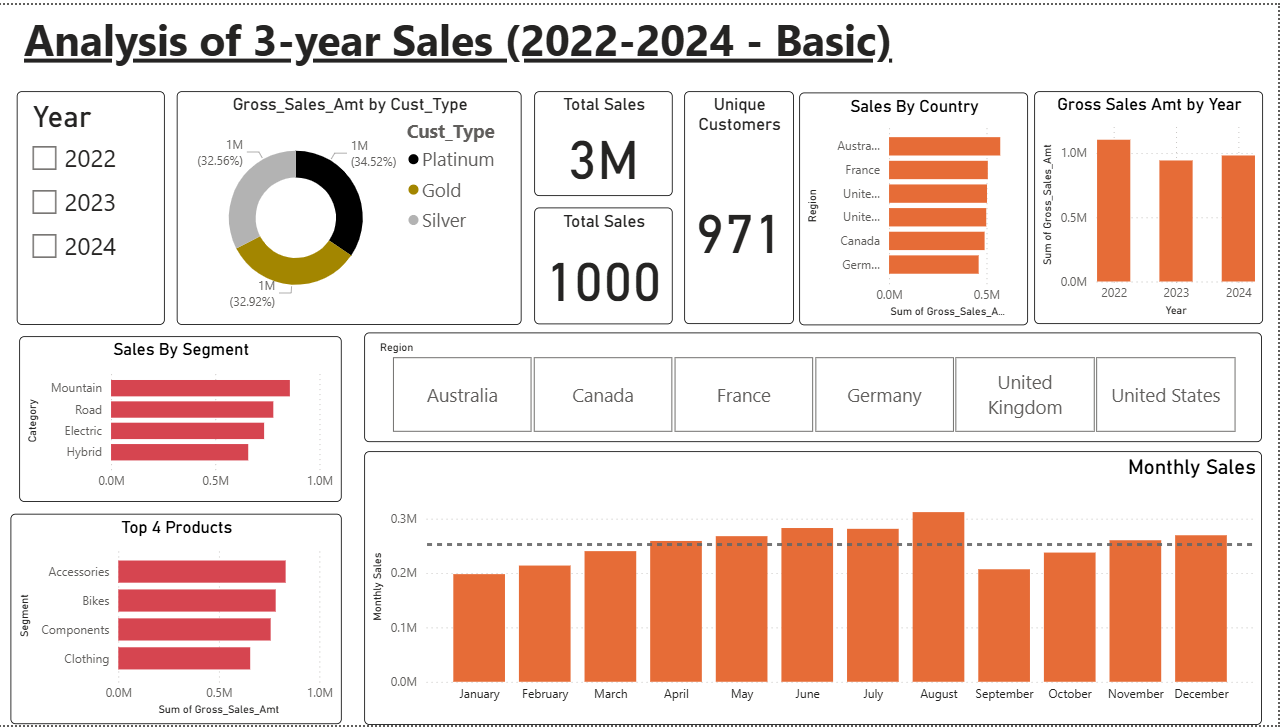

The dashboard page shown, as its layout file describes it:
{"tool":"powerbi","page":{"name":"Page 1","canvas":[1280,720],"ordinal":0},"visuals":[{"type":"textbox","box":[9.6,0,900.2,116.6],"z":0},{"type":"slicer","fields":{"Values":["sales_data_2022_2024.SaleDate.Variation.Date Hierarchy.Year"]},"box":[19.2,86.4,148.2,233.3],"z":1000},{"type":"slicer","fields":{"Values":["sales_data_2022_2024.Region"]},"box":[366.8,328,897.6,109.3],"z":2000},{"type":"donutChart","title":"Gross_Sales_Amt by Cust_Type","fields":{"Y":["Sum(sales_data_2022_2024.Gross_Sales_Amt)"],"Category":["sales_data_2022_2024.Cust_Type"]},"box":[178.1,86.3,345.1,233.8],"z":3000},{"type":"card","title":"Total Sales","fields":{"Values":["Sum(sales_data_2022_2024.Gross_Sales_Amt)"]},"box":[536.6,86.3,138.1,105],"z":3001},{"type":"card","title":"Total Sales","fields":{"Values":["CountNonNull(sales_data_2022_2024.Gross_Sales_Amt)"]},"box":[536.6,202.8,138.1,116.5],"z":3002},{"type":"card","title":"Unique Customers","fields":{"Values":["Count(sales_data_2022_2024.Customer)"]},"box":[686.2,86.3,109.3,233],"z":3003},{"type":"clusteredColumnChart","title":"Monthly Sales","fields":{"Category":["sales_data_2022_2024.SaleDate.Variation.Date Hierarchy.Month"],"Y":["Sum(sales_data_2022_2024.Gross_Sales_Amt)"]},"box":[366.8,445.9,897.6,273.3],"z":3004},{"type":"clusteredBarChart","title":"Sales By Country","fields":{"Y":["Sum(sales_data_2022_2024.Gross_Sales_Amt)"],"Category":["sales_data_2022_2024.Region"]},"box":[801.3,87.8,228.7,233],"z":3005},{"type":"clusteredBarChart","title":"Sales By Segment","fields":{"Y":["Sum(sales_data_2022_2024.Gross_Sales_Amt)"],"Category":["sales_data_2022_2024.Category"]},"box":[21.6,330.9,322.2,165.4],"z":3006},{"type":"clusteredBarChart","title":"Top 4 Products","fields":{"Y":["Sum(sales_data_2022_2024.Gross_Sales_Amt)"],"Category":["sales_data_2022_2024.Segment"]},"box":[12.9,509.2,330.9,210],"z":3007},{"type":"clusteredColumnChart","title":"Gross Sales Amt by Year","fields":{"Y":["Sum(sales_data_2022_2024.Gross_Sales_Amt)"],"Category":["sales_data_2022_2024.SaleDate.Variation.Date Hierarchy.Year"]},"box":[1035.7,86.3,228.7,233],"z":3008}]}

Visuals, with their boxes in screenshot pixels (x1, y1, x2, y2), scaled from the page's 1280x720 canvas onto the 1281x728 screenshot:
textbox: bbox=(10, 0, 911, 118)
slicer - sales_data_2022_2024.SaleDate.Variation.Date Hierarchy.Year: bbox=(19, 87, 168, 323)
slicer - sales_data_2022_2024.Region: bbox=(367, 332, 1265, 442)
"Gross_Sales_Amt by Cust_Type" donutChart: bbox=(178, 87, 524, 324)
"Total Sales" card: bbox=(537, 87, 675, 193)
"Total Sales" card: bbox=(537, 205, 675, 323)
"Unique Customers" card: bbox=(687, 87, 796, 323)
"Monthly Sales" clusteredColumnChart: bbox=(367, 451, 1265, 727)
"Sales By Country" clusteredBarChart: bbox=(802, 89, 1031, 324)
"Sales By Segment" clusteredBarChart: bbox=(22, 335, 344, 502)
"Top 4 Products" clusteredBarChart: bbox=(13, 515, 344, 727)
"Gross Sales Amt by Year" clusteredColumnChart: bbox=(1037, 87, 1265, 323)
